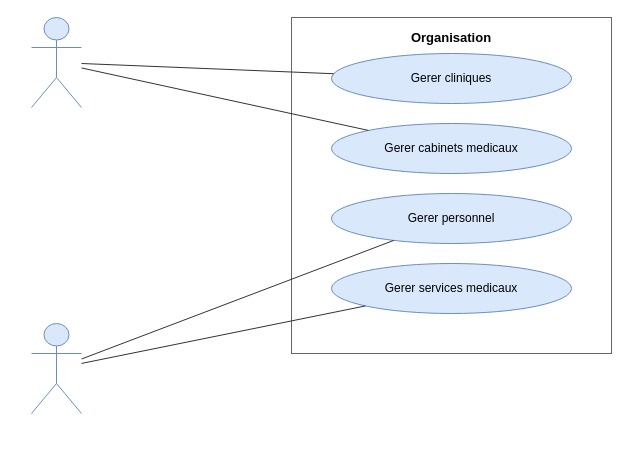
This 629x452 diagram has some shape labels left out. The shapes that lost their labels are listed below. From the top down, each one's centre as x and y in pixels, then its label:
the point at 56,62: Super Admin
the point at 56,368: Admin clinique
